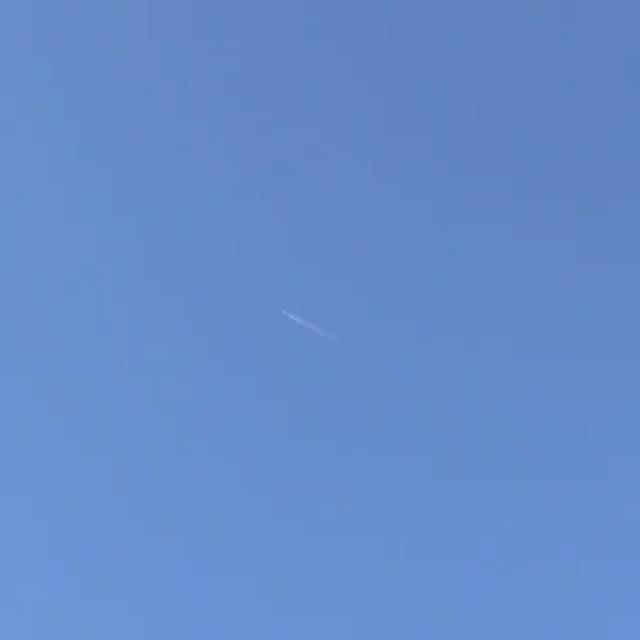AirPlane: (260, 288, 323, 342)
